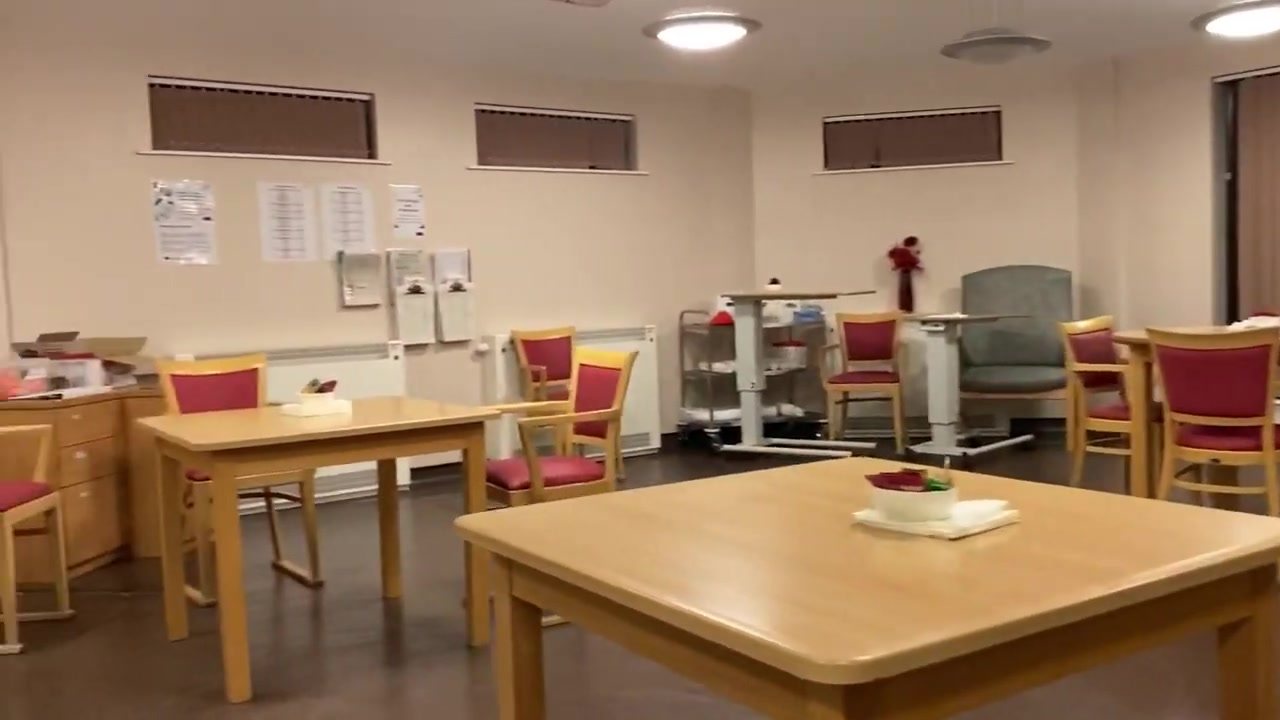chair: (155, 351, 327, 607), (1056, 315, 1208, 502), (1147, 325, 1280, 516), (486, 347, 638, 505), (958, 264, 1077, 450), (1, 417, 74, 654), (824, 310, 907, 455), (509, 325, 579, 399)
curtain: (145, 84, 367, 162), (1238, 71, 1280, 323), (822, 113, 1001, 170), (475, 107, 631, 168)
handle: (75, 489, 97, 498), (71, 450, 90, 459), (68, 414, 83, 420)
table: (453, 457, 1280, 720), (131, 396, 503, 705), (1111, 327, 1280, 497), (720, 284, 878, 451), (903, 307, 1034, 458)
utility_cart: (679, 309, 831, 454)
